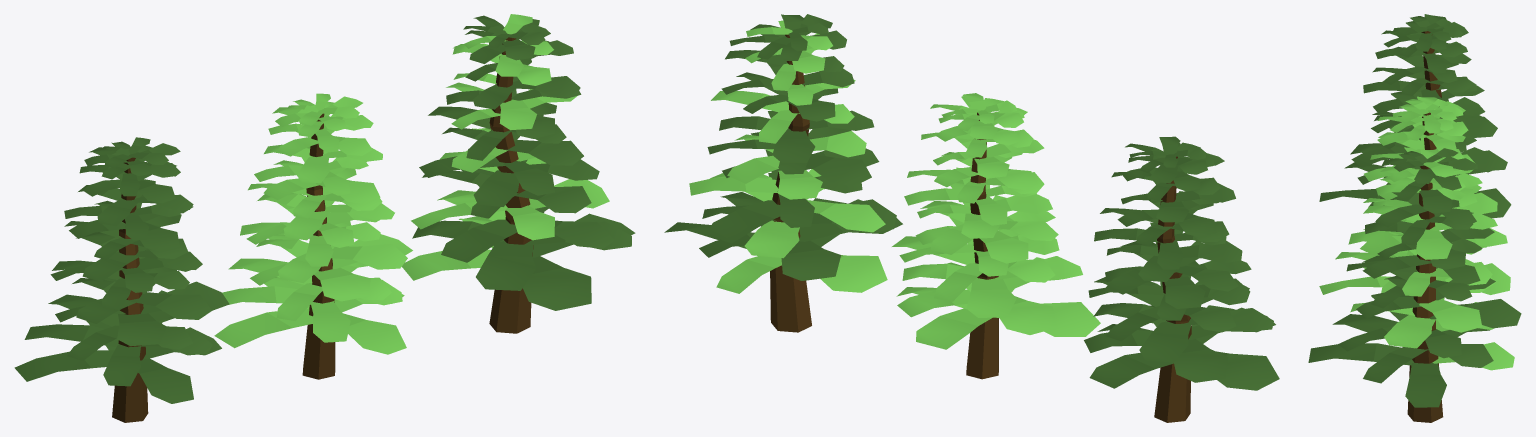
File: LowPolyTrees_2.fbx
The picture shows the model from 3 angles, left to right: view 1: azimuth 30°, elevation 25°; view 2: azimuth 150°, elevation 25°; view 3: azimuth 270°, elevation 25°; orthographic projection. The views are drawn at different scales.
Visible parts, largest first — view 1: LPT2_Tree_3, LPT2_Tree_1, LPT2_Tree_2; view 2: LPT2_Tree_3, LPT2_Tree_2, LPT2_Tree_1; view 3: LPT2_Tree_3, LPT2_Tree_1, LPT2_Tree_2.
Part boxes in pixels (box(x1,y1,x2,y2)): LPT2_Tree_3: box(402, 14, 635, 333); LPT2_Tree_1: box(14, 137, 229, 422); LPT2_Tree_2: box(214, 93, 412, 379); LPT2_Tree_3: box(664, 14, 902, 332); LPT2_Tree_2: box(892, 93, 1100, 379); LPT2_Tree_1: box(1084, 136, 1279, 422); LPT2_Tree_3: box(1308, 148, 1521, 422); LPT2_Tree_1: box(1319, 14, 1511, 218); LPT2_Tree_2: box(1319, 96, 1510, 299).
Bounding box in the file's own units: 407 × 191 × 144.
